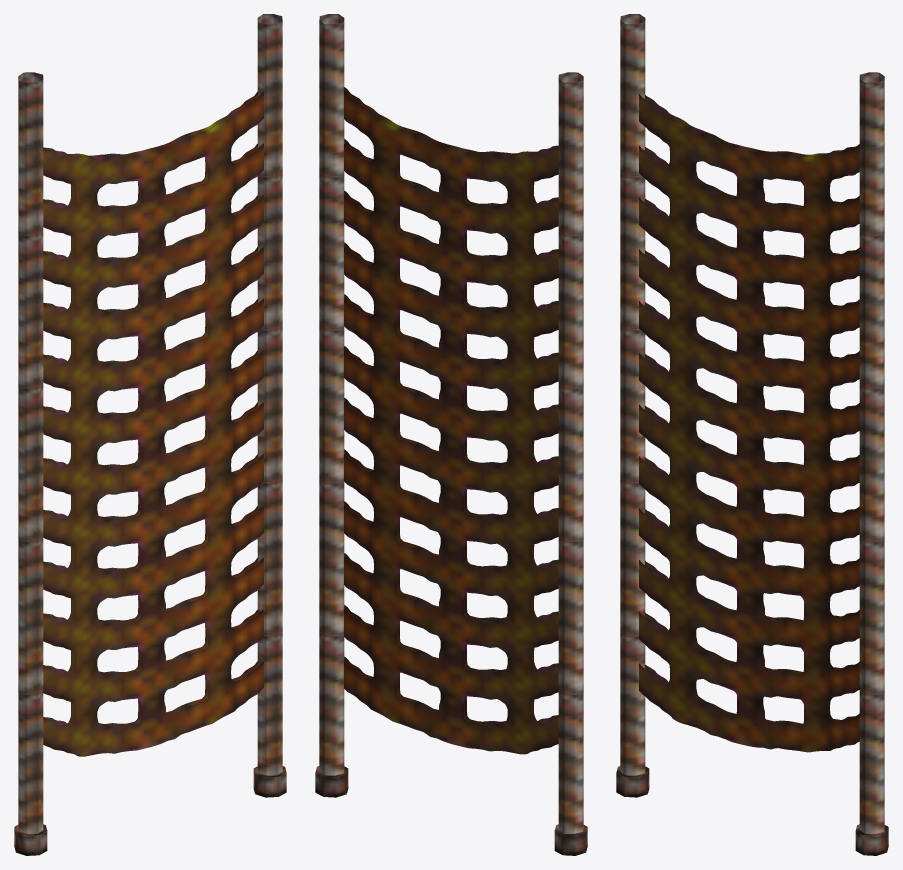
The model's file is Poly_SF_Outside_B_Net_01.obj.
3 renders of one model, left to right at view 1: azimuth 30°, elevation 25°; view 2: azimuth 150°, elevation 25°; view 3: azimuth 330°, elevation 25°, orthographic.
Visible parts, largest first — view 1: Cube_Cube.003, Cube_Cube.001, Cube_Cube.002; view 2: Cube_Cube.003, Cube_Cube.001, Cube_Cube.002; view 3: Cube_Cube.003, Cube_Cube.001, Cube_Cube.002.
Boxes of the visible parts, box(x1,y1,x2,y2) form: Cube_Cube.003: box(43, 91, 263, 756); Cube_Cube.001: box(18, 14, 282, 833); Cube_Cube.002: box(14, 766, 286, 855); Cube_Cube.003: box(344, 87, 558, 754); Cube_Cube.001: box(319, 14, 583, 833); Cube_Cube.002: box(315, 766, 587, 855); Cube_Cube.003: box(639, 94, 859, 752); Cube_Cube.001: box(620, 14, 884, 833); Cube_Cube.002: box(616, 766, 888, 855).
Bounding box in the file's own units: 1 × 2.74 × 0.11.
1 material, 1 textured.
